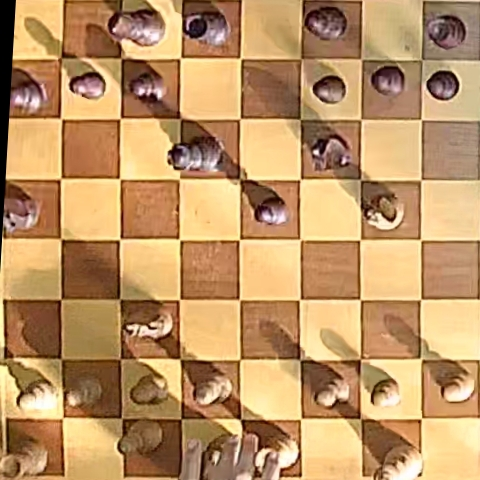black-bishop: (305, 6, 347, 40)
black-king: (109, 9, 165, 47)
black-knight: (311, 135, 352, 170), (4, 195, 41, 232)
black-pawn: (10, 80, 48, 114), (129, 71, 166, 102), (69, 71, 106, 100), (371, 65, 405, 96), (426, 70, 459, 100), (255, 197, 288, 225), (313, 76, 346, 103)
black-queen: (168, 137, 225, 171)
black-rook: (183, 11, 230, 46), (426, 15, 466, 49)
white-bishop: (116, 420, 164, 457)
white-king: (377, 445, 422, 480)
white-knight: (362, 190, 404, 230), (123, 311, 172, 341)
white-pawn: (190, 372, 234, 408), (65, 376, 104, 410), (18, 380, 57, 411), (130, 374, 169, 404), (315, 375, 351, 407), (442, 371, 476, 403), (371, 379, 401, 408)
white-rook: (253, 436, 300, 475), (2, 440, 48, 477)
